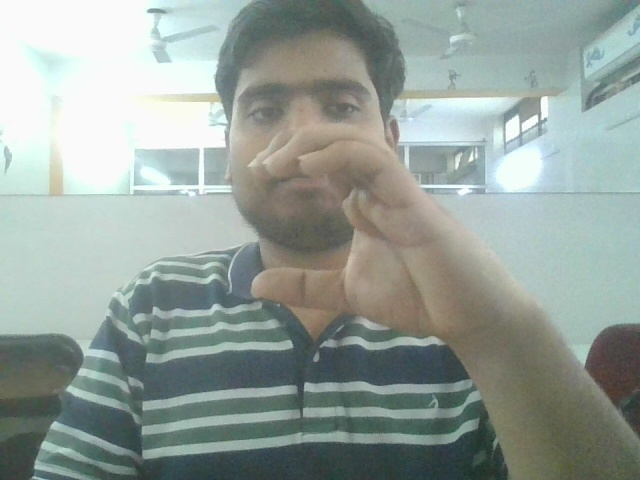No: (227, 104, 517, 346)
